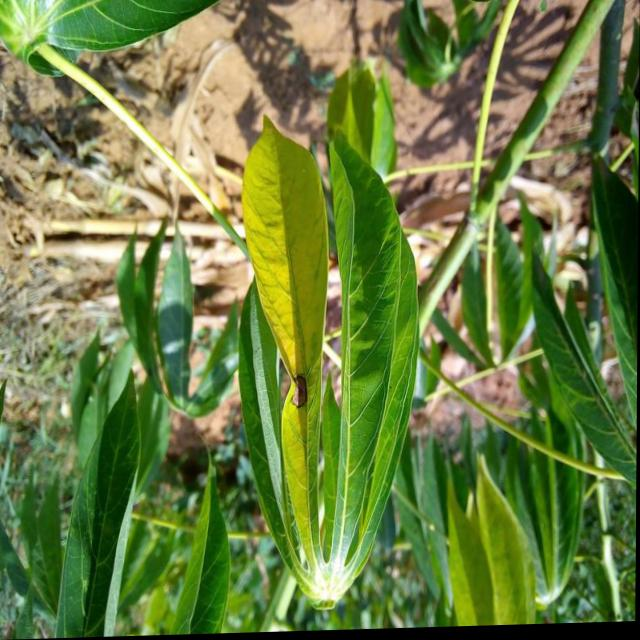Mosaico: (222, 76, 423, 612)
